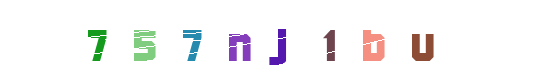1: (240, 0, 320, 80)
5: (104, 0, 184, 80)
7: (58, 0, 138, 80), (153, 0, 233, 80)
B: (330, 0, 410, 80)
J: (230, 0, 310, 80)
N: (200, 0, 280, 80)
V: (350, 0, 430, 80)
